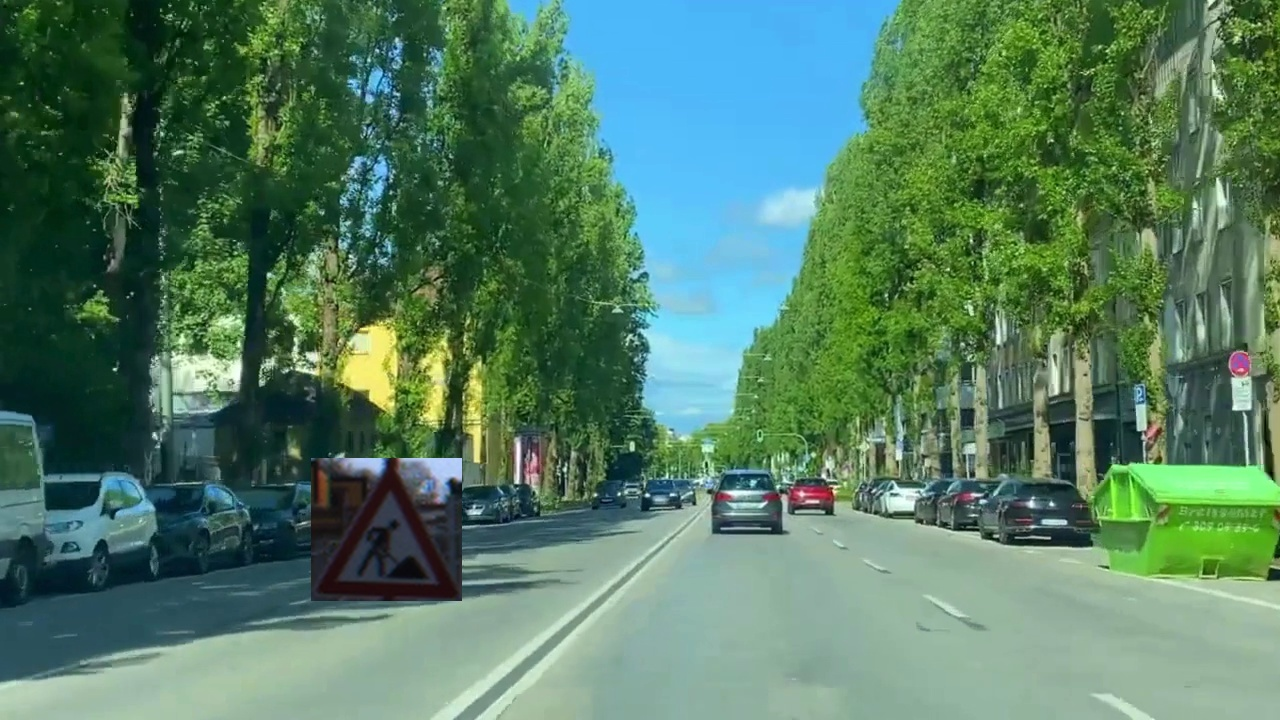Road work: (311, 458, 462, 601)
